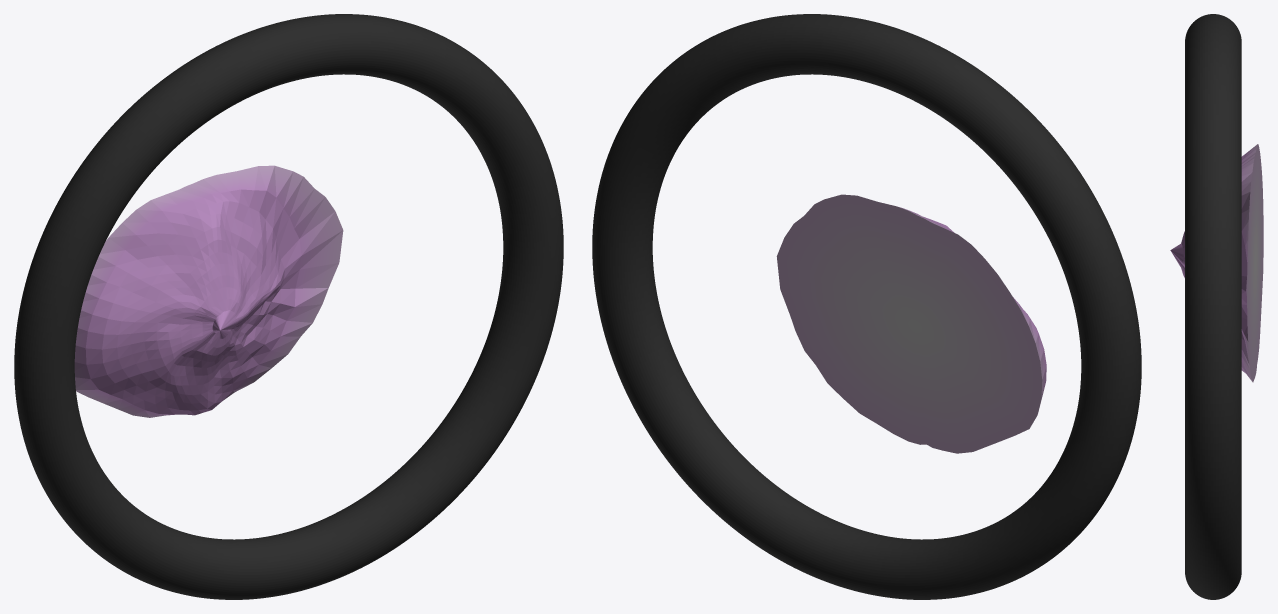
3 renders of one model, left to right at view 1: azimuth 30°, elevation 25°; view 2: azimuth 150°, elevation 25°; view 3: azimuth 270°, elevation 25°, orthographic. The views are drawn at different scales.
Parts seen in each view (by area): view 1: fixed_CAD_Ring, polyp_body_inferred_base_gray; view 2: fixed_CAD_Ring, polyp_body_inferred_base_gray; view 3: fixed_CAD_Ring, polyp_body_inferred_base_gray.
Boxes of the visible parts, x1,y1,x2,y2 form: fixed_CAD_Ring: [14, 14, 563, 599]; polyp_body_inferred_base_gray: [74, 165, 343, 417]; fixed_CAD_Ring: [592, 14, 1141, 599]; polyp_body_inferred_base_gray: [776, 194, 1046, 453]; fixed_CAD_Ring: [1185, 14, 1241, 599]; polyp_body_inferred_base_gray: [1170, 144, 1263, 382].
Size of the model in its own units: 0.0124 by 0.0124 by 0.00197.
